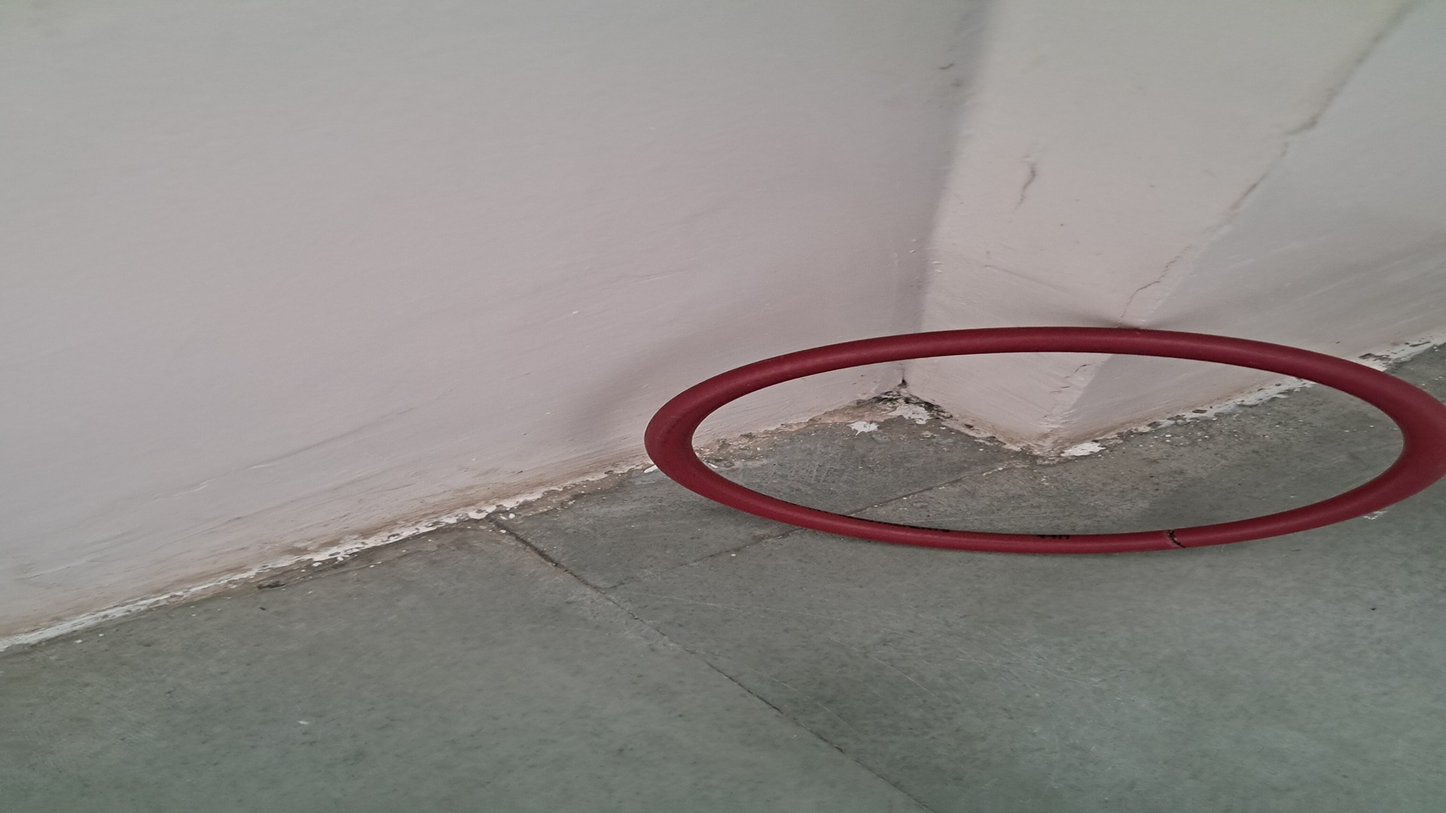Red ring: (645, 330, 1446, 556)
